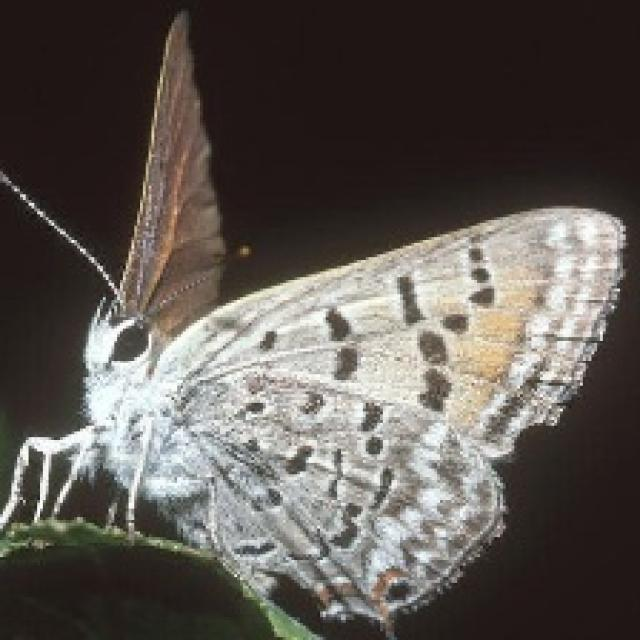butterfly: (0, 6, 629, 637)
